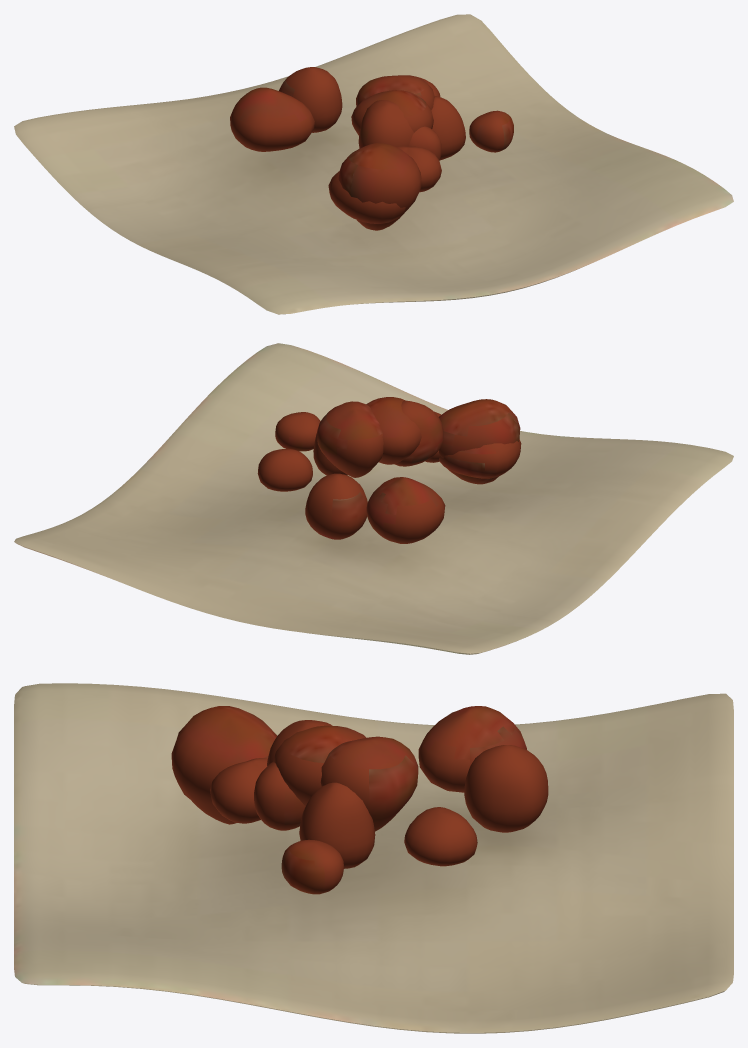
File: myrrh.glb
3 views of the same model, one above another, from view 1: azimuth 30°, elevation 25°; view 2: azimuth 150°, elevation 25°; view 3: azimuth 270°, elevation 25° (orthographic). The views are drawn at different scales.
Parts seen in each view (by area): view 1: myrrh; view 2: myrrh; view 3: myrrh.
Part boxes in pixels (x1=…): myrrh: x1=14, y1=14, x2=733, y2=314; myrrh: x1=14, y1=343, x2=733, y2=654; myrrh: x1=14, y1=683, x2=733, y2=1033.
Bounding box in the file's own units: 0.1193 × 0.0308 × 0.1193.
Materials: 1 (1 with a texture image).
